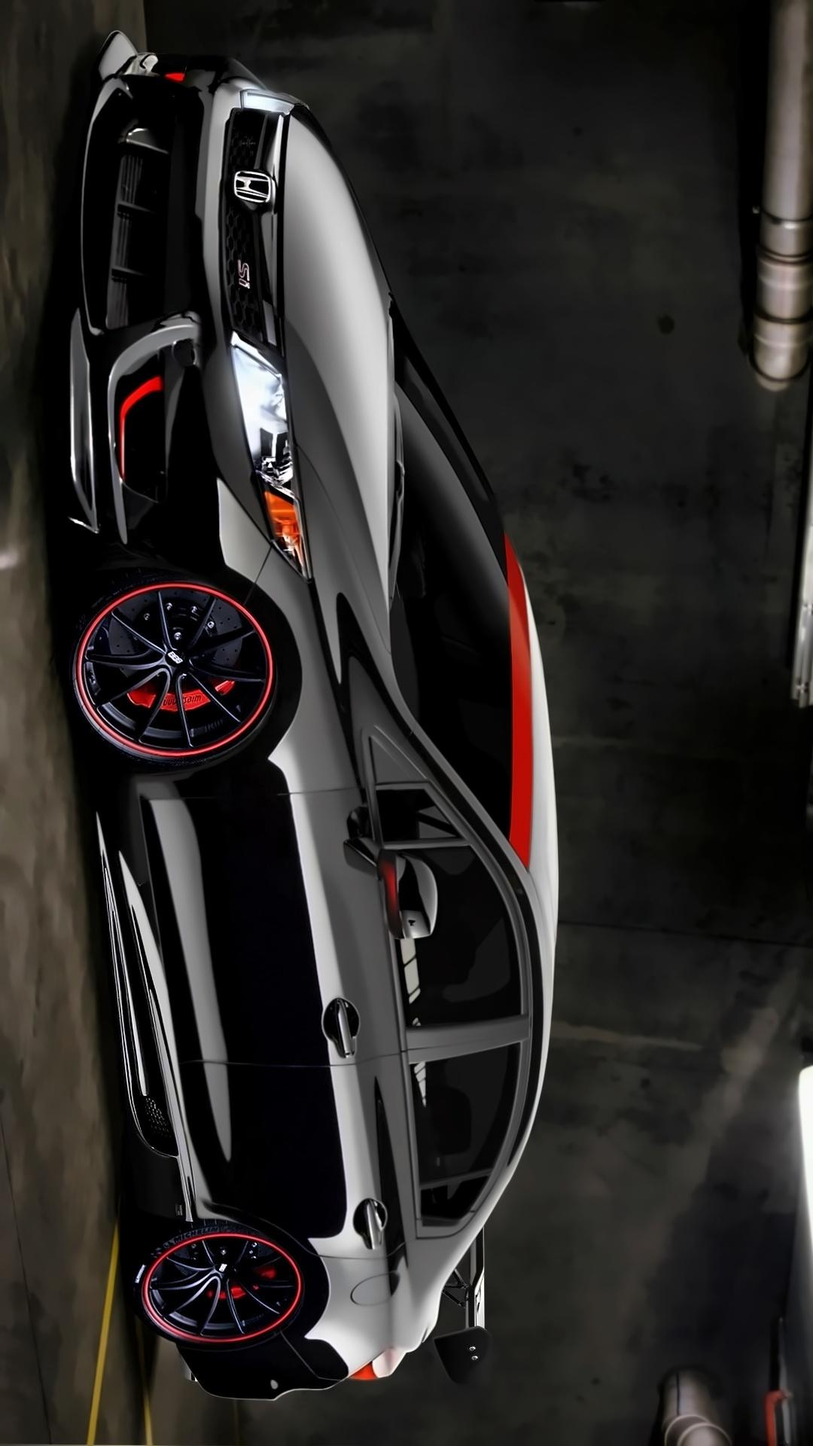Car hood: (269, 106, 400, 707)
Fender - -F-L-: (93, 530, 471, 807)
Fender - -R-L-: (267, 1204, 493, 1345)
Front bumper: (43, 28, 268, 595)
Headlight - -L-: (224, 324, 308, 582)
Passenger-s door - -F-L-: (28, 756, 576, 1079)
Passenger-s door - -R-L-: (78, 1002, 545, 1240)
Side bumper - -L-: (83, 766, 243, 1242)
Side mirror - -L-: (339, 826, 442, 959)
